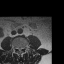CCS_stenosis: (19, 45, 21, 53)
LFS_normal: (22, 45, 24, 50)
LLS_stenosis: (21, 45, 23, 52)
RFS_normal: (15, 44, 17, 51)
RLS_stenosis: (17, 45, 19, 51)
